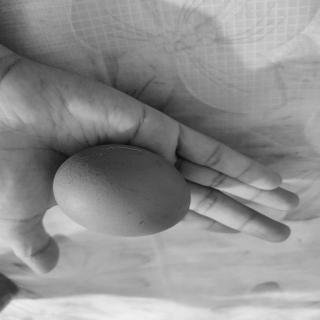Telur: (54, 142, 194, 240)
